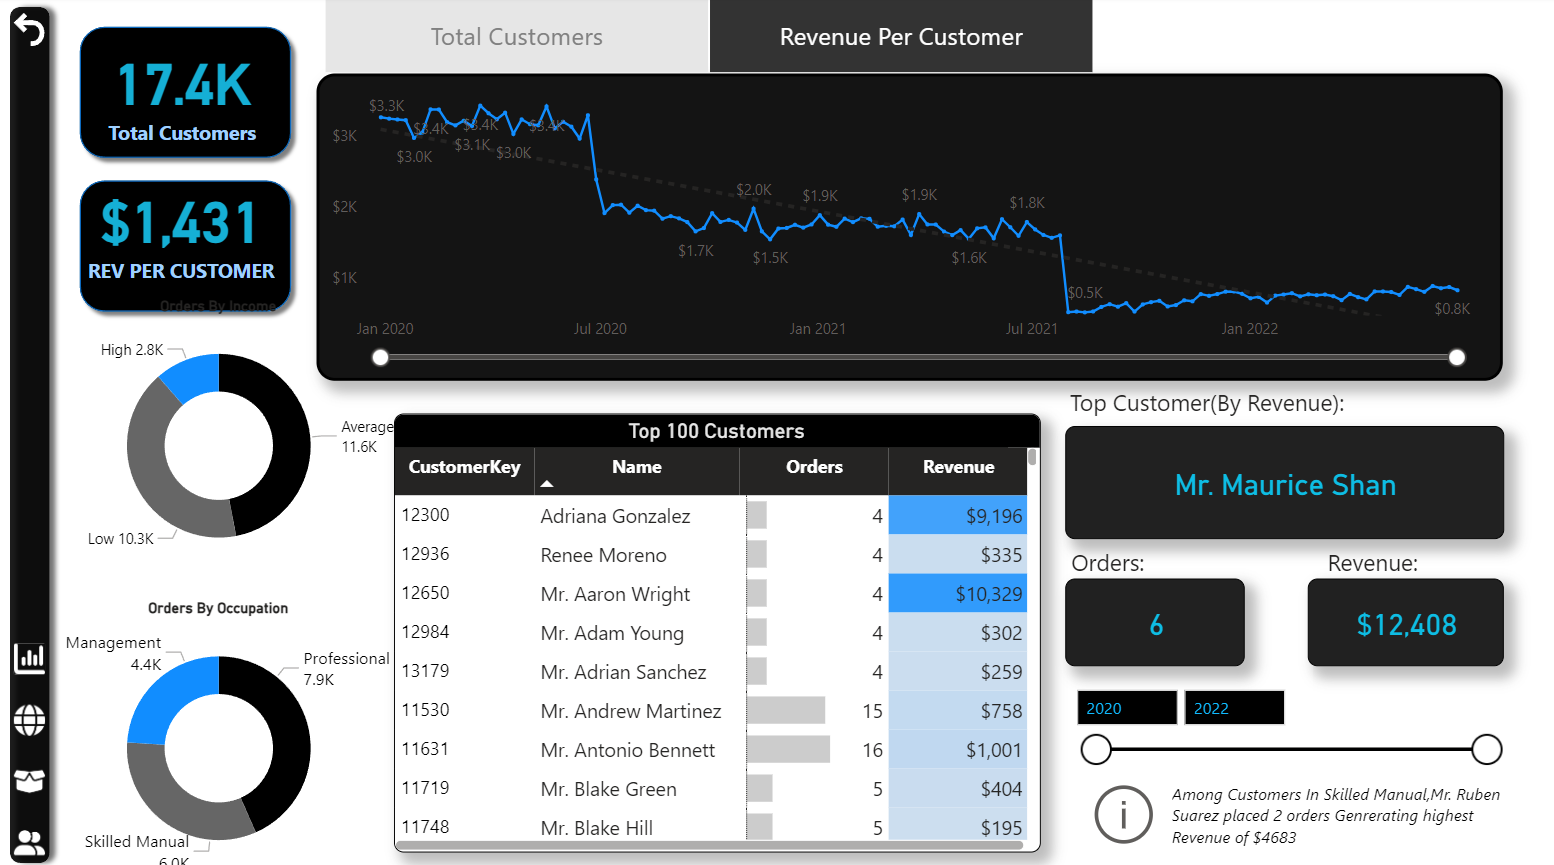

The dashboard page shown, as its layout file describes it:
{"tool":"powerbi","page":{"name":"Customer Detail","canvas":[1280,720],"ordinal":3},"visuals":[{"type":"shape","box":[0,0,50.5,719.9],"z":0},{"type":"card","fields":{"Values":["Measure Table.Total Customers"]},"box":[51.3,17.4,198.2,121.7],"z":0,"group":"g3"},{"type":"group","id":"g1","title":"KPI BG","box":[58.2,17.8,189.2,249.3],"z":0,"group":"g2"},{"type":"shape","box":[58.2,17.8,188.9,123.1],"z":0,"group":"g1"},{"type":"group","id":"g2","title":"KPIs","box":[50.2,17.4,198.8,251.1],"z":1000},{"type":"group","id":"g3","title":"KPI Indicators","box":[50.2,17.4,199.4,234.8],"z":1000,"group":"g2"},{"type":"card","fields":{"Values":["Measure Table.Avg Revenue Per Customer"]},"box":[50.2,131.3,198.4,120.9],"z":1000,"group":"g3"},{"type":"shape","box":[58.5,144.1,188.9,123.1],"z":1000,"group":"g1"},{"type":"lineChart","title":"Weekly Customer","fields":{"Y":["Measure Table.Avg Revenue Per Customer"],"Category":["Calendar Lookup.Date Hierarchy.Year","Calendar Lookup.Date Hierarchy.Start of Month","Calendar Lookup.Date Hierarchy.Start of Week","Calendar Lookup.Date Hierarchy.Date"]},"box":[260.3,64,972.8,251.7],"z":2000},{"type":"donutChart","title":"Orders By Income","fields":{"Y":["Measure Table.Total Order"],"Category":["Customer Lookup.Income Level"]},"box":[25.2,246.9,298.4,225.3],"z":3000},{"type":"donutChart","title":"Orders By Occupation","fields":{"Y":["Measure Table.Total Order"],"Category":["Customer Lookup.Occupation"]},"box":[25.2,495,298.4,225.3],"z":4000},{"type":"pivotTable","title":"Top 100 Customers","fields":{"Values":["Min(Customer Lookup.Full Name)","Measure Table.Total Order","Measure Table.Total Revenue"],"Rows":["Customer Lookup.CustomerKey"]},"box":[324.3,342.8,530.5,359.8],"z":5000},{"type":"card","fields":{"Values":["Measure Table.Full Name(If multiple Names)"]},"box":[873.9,352.6,359.8,92.4],"z":6000},{"type":"card","fields":{"Values":["Measure Table.Total Orders(If Same orders)"]},"box":[873.9,477.5,147.4,71.9],"z":7000},{"type":"textbox","box":[873.2,315.7,254.6,37],"z":8000},{"type":"textbox","box":[874.4,447.3,167.8,39.8],"z":9000},{"type":"textbox","box":[1084.9,447.3,149.3,39.8],"z":10000},{"type":"slicer","fields":{"Values":["Calendar Lookup.Year"]},"box":[875.1,559,361.9,81.5],"z":11000},{"type":"card","fields":{"Values":["Measure Table.Total Revenue(If Same revenue)"]},"box":[1072.8,477.5,160.6,71.9],"z":12000},{"type":"actionButton","box":[7.2,9.6,36,36],"z":13000},{"type":"actionButton","box":[891.4,640.8,361.9,61.1],"z":14000},{"type":"actionButton","box":[8.4,527.3,34.8,33.6],"z":15000},{"type":"actionButton","box":[8.4,627.2,61.1,33.6],"z":16000},{"type":"actionButton","box":[8.4,677.2,61.1,33.6],"z":17000},{"type":"actionButton","box":[8.4,577.3,61.1,33.6],"z":18000},{"type":"slicer","fields":{"Values":["Customer Metrics.Customer Metrics"]},"box":[247.5,0,668.4,64],"z":19000}]}

Visuals, with their boxes on the page's 1280x720 design canvas (x1, y1, x2, y2). These are canvas units, not pixel positions in the 1554x865 screenshot, which may show the page scaled, cropped or inside an application window:
shape: x1=0 y1=0 x2=50 y2=720
card - Measure Table.Total Customers: x1=51 y1=17 x2=250 y2=139
"KPI BG" group: x1=58 y1=18 x2=247 y2=267
shape: x1=58 y1=18 x2=247 y2=141
"KPIs" group: x1=50 y1=17 x2=249 y2=268
"KPI Indicators" group: x1=50 y1=17 x2=250 y2=252
card - Measure Table.Avg Revenue Per Customer: x1=50 y1=131 x2=249 y2=252
shape: x1=58 y1=144 x2=247 y2=267
"Weekly Customer" lineChart: x1=260 y1=64 x2=1233 y2=316
"Orders By Income" donutChart: x1=25 y1=247 x2=324 y2=472
"Orders By Occupation" donutChart: x1=25 y1=495 x2=324 y2=720
"Top 100 Customers" pivotTable: x1=324 y1=343 x2=855 y2=703
card - Measure Table.Full Name(If multiple Names): x1=874 y1=353 x2=1234 y2=445
card - Measure Table.Total Orders(If Same orders): x1=874 y1=478 x2=1021 y2=549
textbox: x1=873 y1=316 x2=1128 y2=353
textbox: x1=874 y1=447 x2=1042 y2=487
textbox: x1=1085 y1=447 x2=1234 y2=487
slicer - Calendar Lookup.Year: x1=875 y1=559 x2=1237 y2=640
card - Measure Table.Total Revenue(If Same revenue): x1=1073 y1=478 x2=1233 y2=549
actionButton: x1=7 y1=10 x2=43 y2=46
actionButton: x1=891 y1=641 x2=1253 y2=702
actionButton: x1=8 y1=527 x2=43 y2=561
actionButton: x1=8 y1=627 x2=70 y2=661
actionButton: x1=8 y1=677 x2=70 y2=711
actionButton: x1=8 y1=577 x2=70 y2=611
slicer - Customer Metrics.Customer Metrics: x1=248 y1=0 x2=916 y2=64
